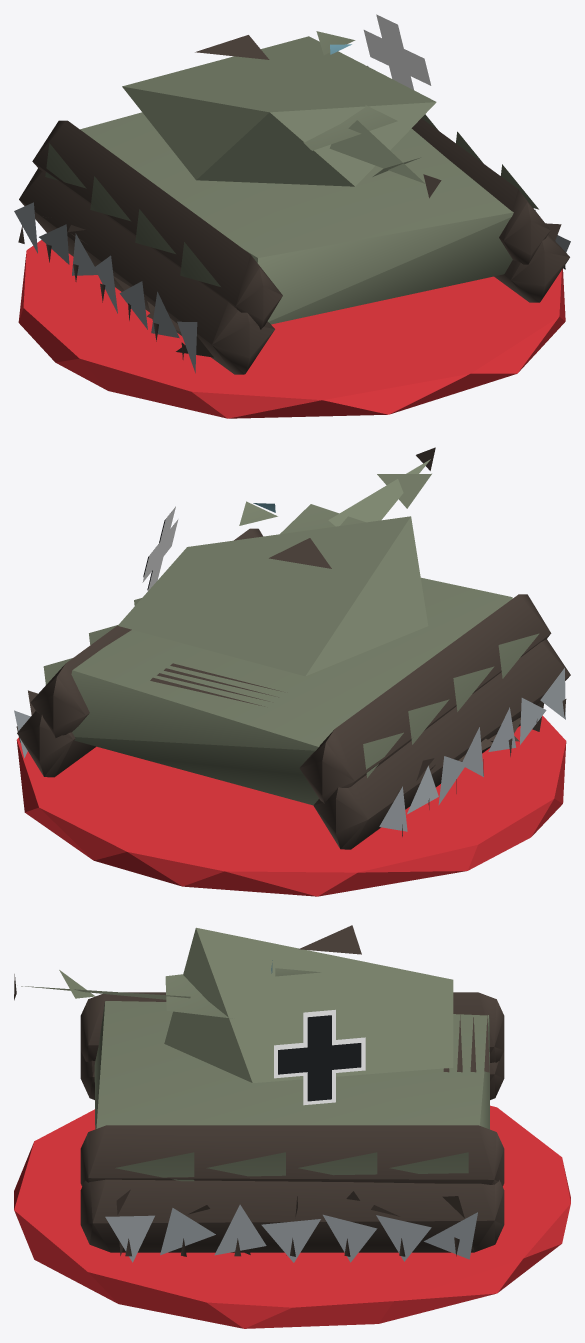
File: germany_tank_lod1.glb
3 views of the same model, one above another, from view 1: azimuth 30°, elevation 25°; view 2: azimuth 150°, elevation 25°; view 3: azimuth 270°, elevation 25° (orthographic).
Parts seen in each view (by area): view 1: body_hull, base_pedestal; view 2: body_hull, base_pedestal; view 3: body_hull, base_pedestal.
Part boxes in pixels (left/top/right/bottom): body_hull: left=14, top=14, right=570, bottom=374; base_pedestal: left=18, top=240, right=565, bottom=418; body_hull: left=14, top=447, right=570, bottom=849; base_pedestal: left=16, top=715, right=566, bottom=896; body_hull: left=14, top=925, right=504, bottom=1262; base_pedestal: left=14, top=1105, right=570, bottom=1328.
Bounding box in the file's own units: 0.7791 × 0.4078 × 0.7772.
